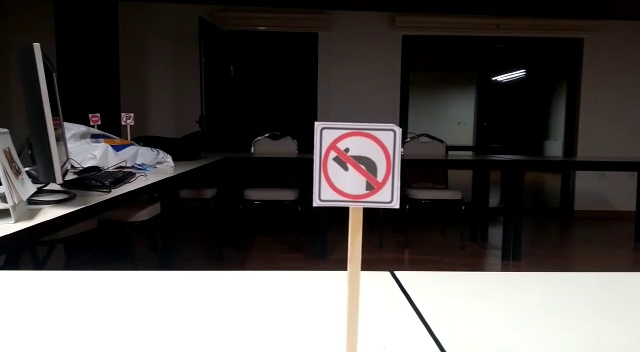sola_donulmez: (318, 128, 405, 206)
